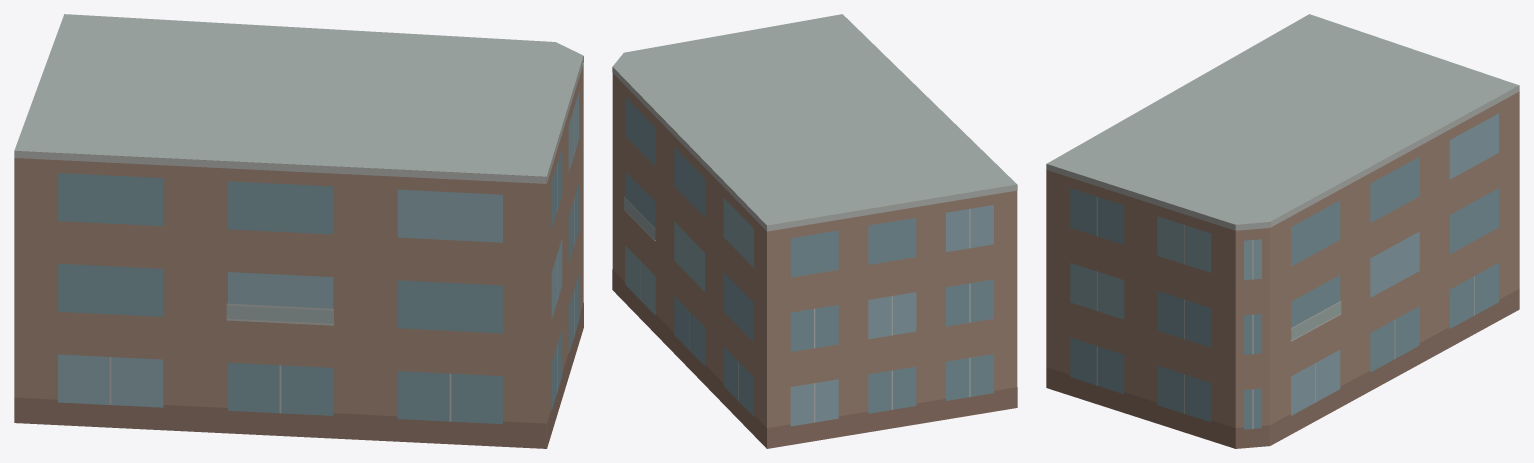
File: survey-upis-32716634.glb
3 renders of one model, left to right at view 1: azimuth 30°, elevation 25°; view 2: azimuth 150°, elevation 25°; view 3: azimuth 270°, elevation 25°, orthographic. The views are drawn at different scales.
Parts seen in each view (by area): view 1: survey-upis-32716634.tmp; view 2: survey-upis-32716634.tmp; view 3: survey-upis-32716634.tmp.
Part boxes in pixels (x1=…): survey-upis-32716634.tmp: x1=14, y1=14, x2=583, y2=448; survey-upis-32716634.tmp: x1=612, y1=14, x2=1017, y2=448; survey-upis-32716634.tmp: x1=1046, y1=14, x2=1519, y2=448.
Bounding box in the file's own units: 18.47 × 9.15 × 17.52.
